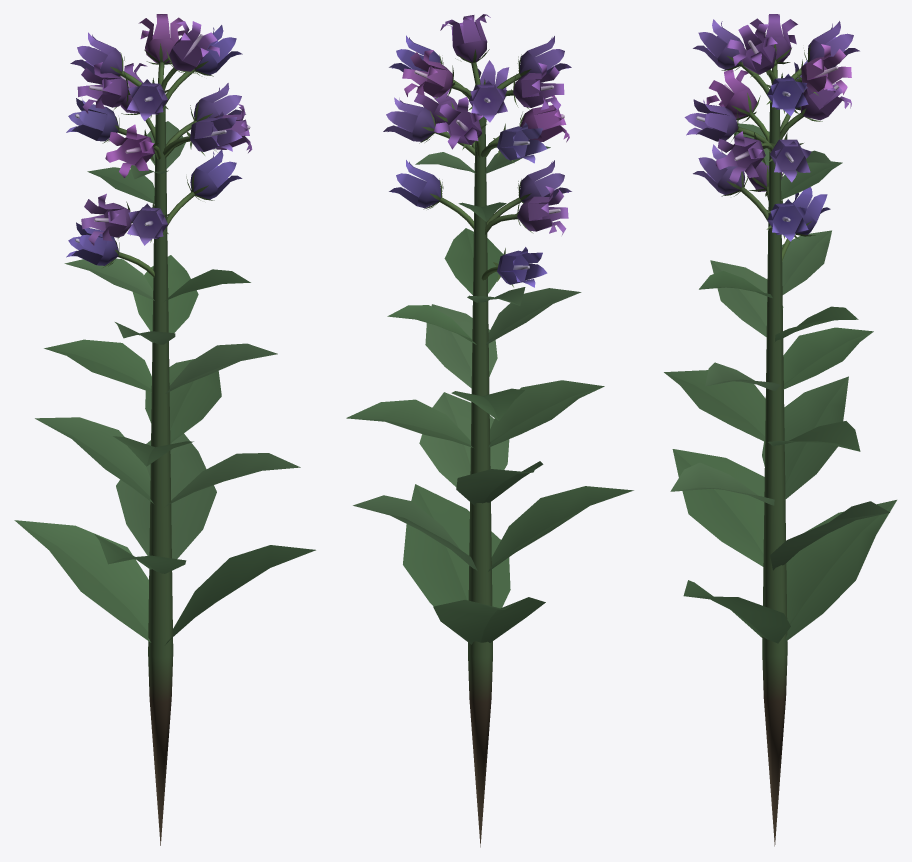
The model's file is plants-flowers-purple-bellflower_v4.fbx.
3 renders of one model, left to right at view 1: azimuth 30°, elevation 25°; view 2: azimuth 150°, elevation 25°; view 3: azimuth 270°, elevation 25°, orthographic.
Parts seen in each view (by area): view 1: Purple Bellflower_v4; view 2: Purple Bellflower_v4; view 3: Purple Bellflower_v4.
Boxes of the visible parts, x1=… form: Purple Bellflower_v4: x1=14, y1=14, x2=315, y2=845; Purple Bellflower_v4: x1=346, y1=14, x2=633, y2=847; Purple Bellflower_v4: x1=664, y1=14, x2=896, y2=846.
Size of the model in its own units: 0.1901 by 0.7 by 0.1787.
